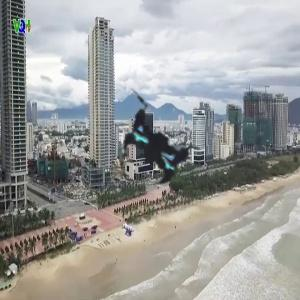drone: (69, 51, 252, 234)
